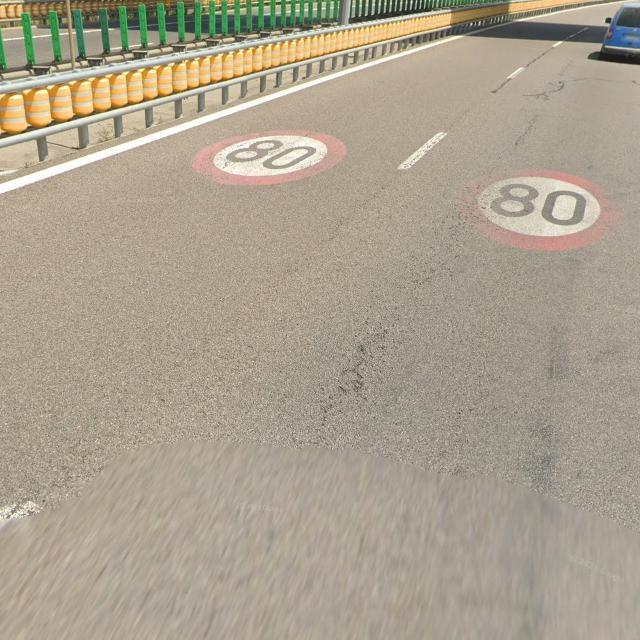forb_speed_over_80: (459, 166, 621, 251), (191, 128, 347, 184)
